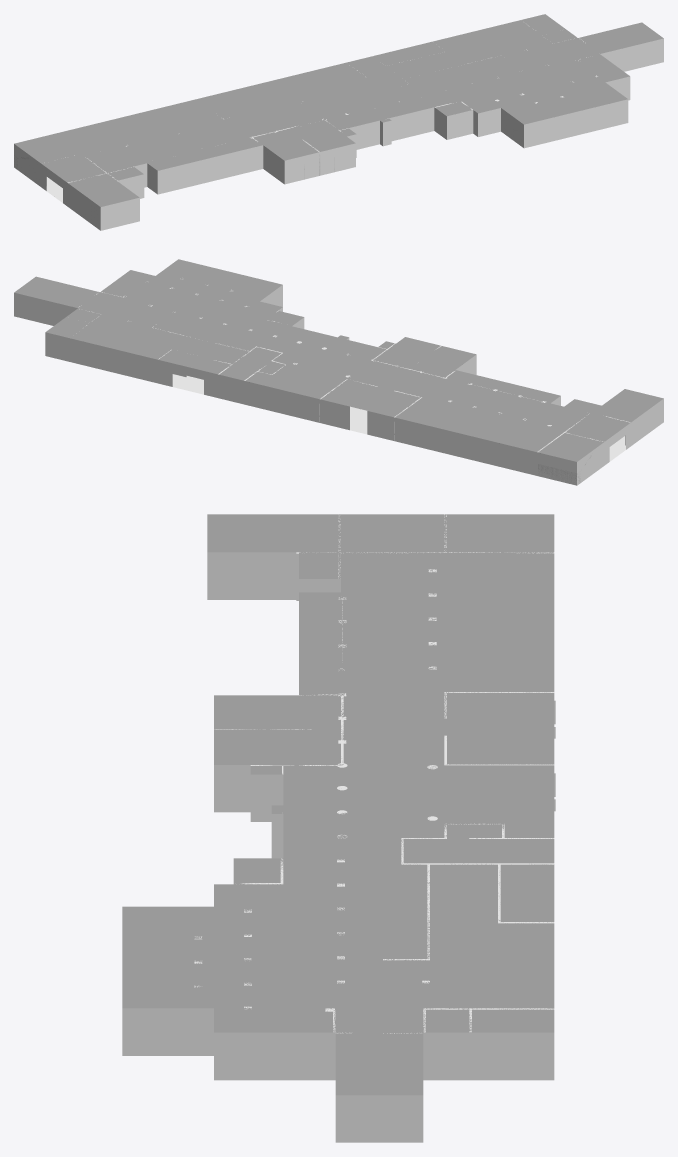
Rendered from salle.glb.
3 renders of one model, top to bottom at view 1: azimuth 30°, elevation 25°; view 2: azimuth 150°, elevation 25°; view 3: azimuth 270°, elevation 25°, orthographic. The views are drawn at different scales.
Parts seen in each view (by area): view 1: plaffond, sol et contour, murs; view 2: plaffond, sol et contour, fen rem, murs, m1.001; view 3: plaffond, sol et contour, murs.
Boxes of the visible parts, x1=… form: plaffond: x1=14, y1=14, x2=663, y2=206; sol et contour: x1=14, y1=38, x2=663, y2=230; murs: x1=41, y1=25, x2=597, y2=191; plaffond: x1=14, y1=259, x2=663, y2=461; sol et contour: x1=14, y1=285, x2=663, y2=485; fen rem: x1=245, y1=385, x2=536, y2=475; murs: x1=69, y1=278, x2=631, y2=475; m1.001: x1=538, y1=455, x2=591, y2=484; plaffond: x1=122, y1=514, x2=554, y2=1095; sol et contour: x1=122, y1=552, x2=554, y2=1142; murs: x1=194, y1=514, x2=554, y2=1080.
Bounding box in the file's own units: 105 × 4 × 33.1.
Materials: 3 (1 with a texture image).
